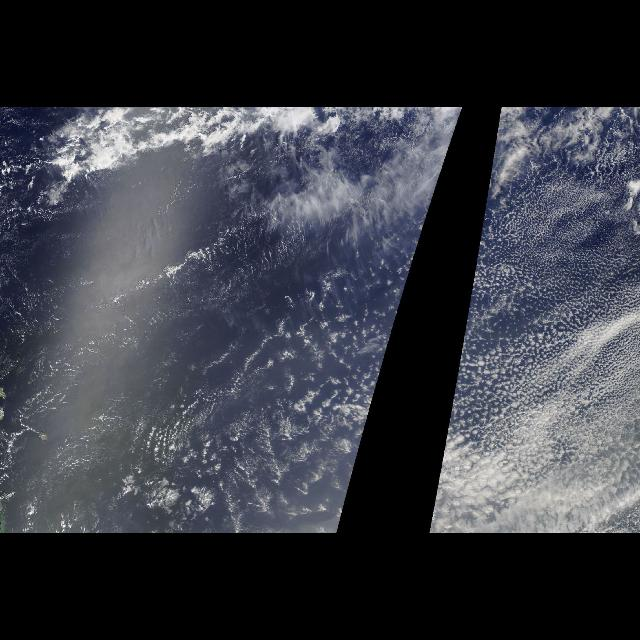Gravel: (488, 233, 630, 451)
Sugar: (136, 234, 328, 522)
